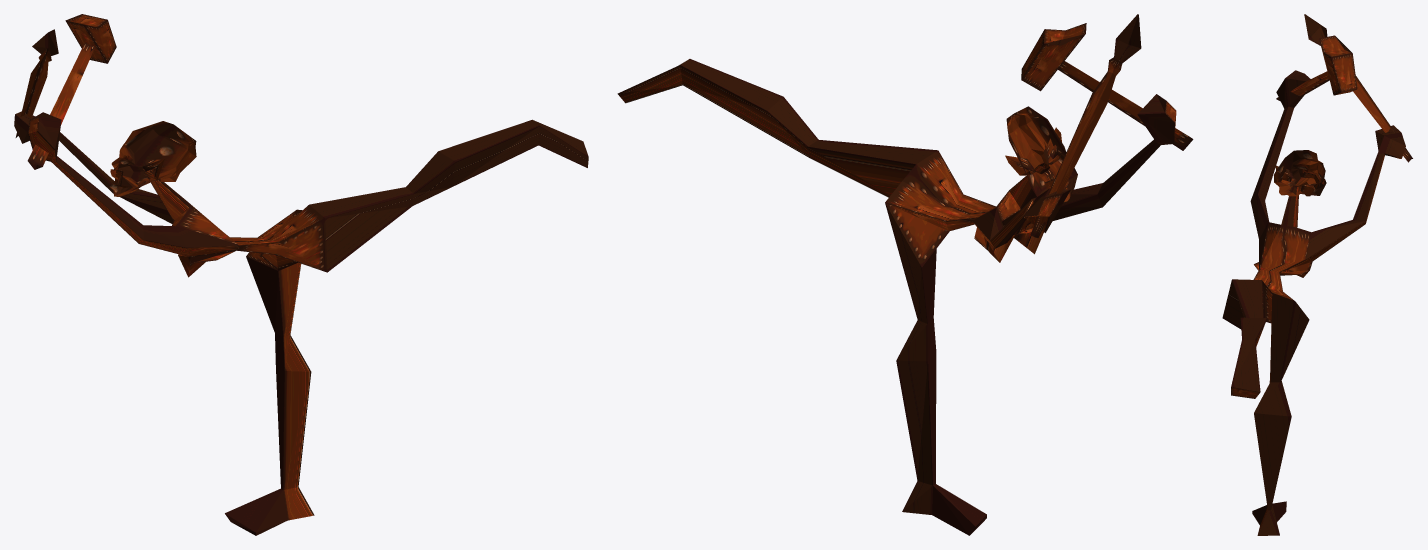
File: Statue_Pan_380.glb
3 renders of one model, left to right at view 1: azimuth 30°, elevation 25°; view 2: azimuth 150°, elevation 25°; view 3: azimuth 270°, elevation 25°, orthographic. The views are drawn at different scales.
Parts seen in each view (by area): view 1: pCubeShape1, polySurfaceShape1, pCubeShape2, pCylinderShape1, pCylinderShape2; view 2: pCubeShape1, pCylinderShape2, polySurfaceShape1, pCubeShape2, pCylinderShape1; view 3: pCubeShape1, polySurfaceShape1, pCubeShape2, pCylinderShape2, pCylinderShape1.
Boxes of the visible parts, bbox=[...] form: pCubeShape1: bbox=[14, 111, 588, 535]; polySurfaceShape1: bbox=[109, 121, 196, 196]; pCubeShape2: bbox=[65, 14, 116, 63]; pCylinderShape1: bbox=[27, 43, 94, 169]; pCylinderShape2: bbox=[15, 29, 58, 137]; pCubeShape1: bbox=[617, 59, 1176, 535]; pCylinderShape2: bbox=[1030, 14, 1141, 237]; polySurfaceShape1: bbox=[1006, 106, 1077, 202]; pCubeShape2: bbox=[1021, 23, 1086, 91]; pCylinderShape1: bbox=[1058, 61, 1193, 150]; pCubeShape1: bbox=[1222, 70, 1405, 535]; polySurfaceShape1: bbox=[1273, 150, 1326, 196]; pCubeShape2: bbox=[1319, 35, 1357, 95]; pCylinderShape2: bbox=[1304, 14, 1412, 162]; pCylinderShape1: bbox=[1276, 71, 1329, 101].
Size of the model in its own units: 1.49 by 1.39 by 0.5559.
8 materials, 8 textured.
